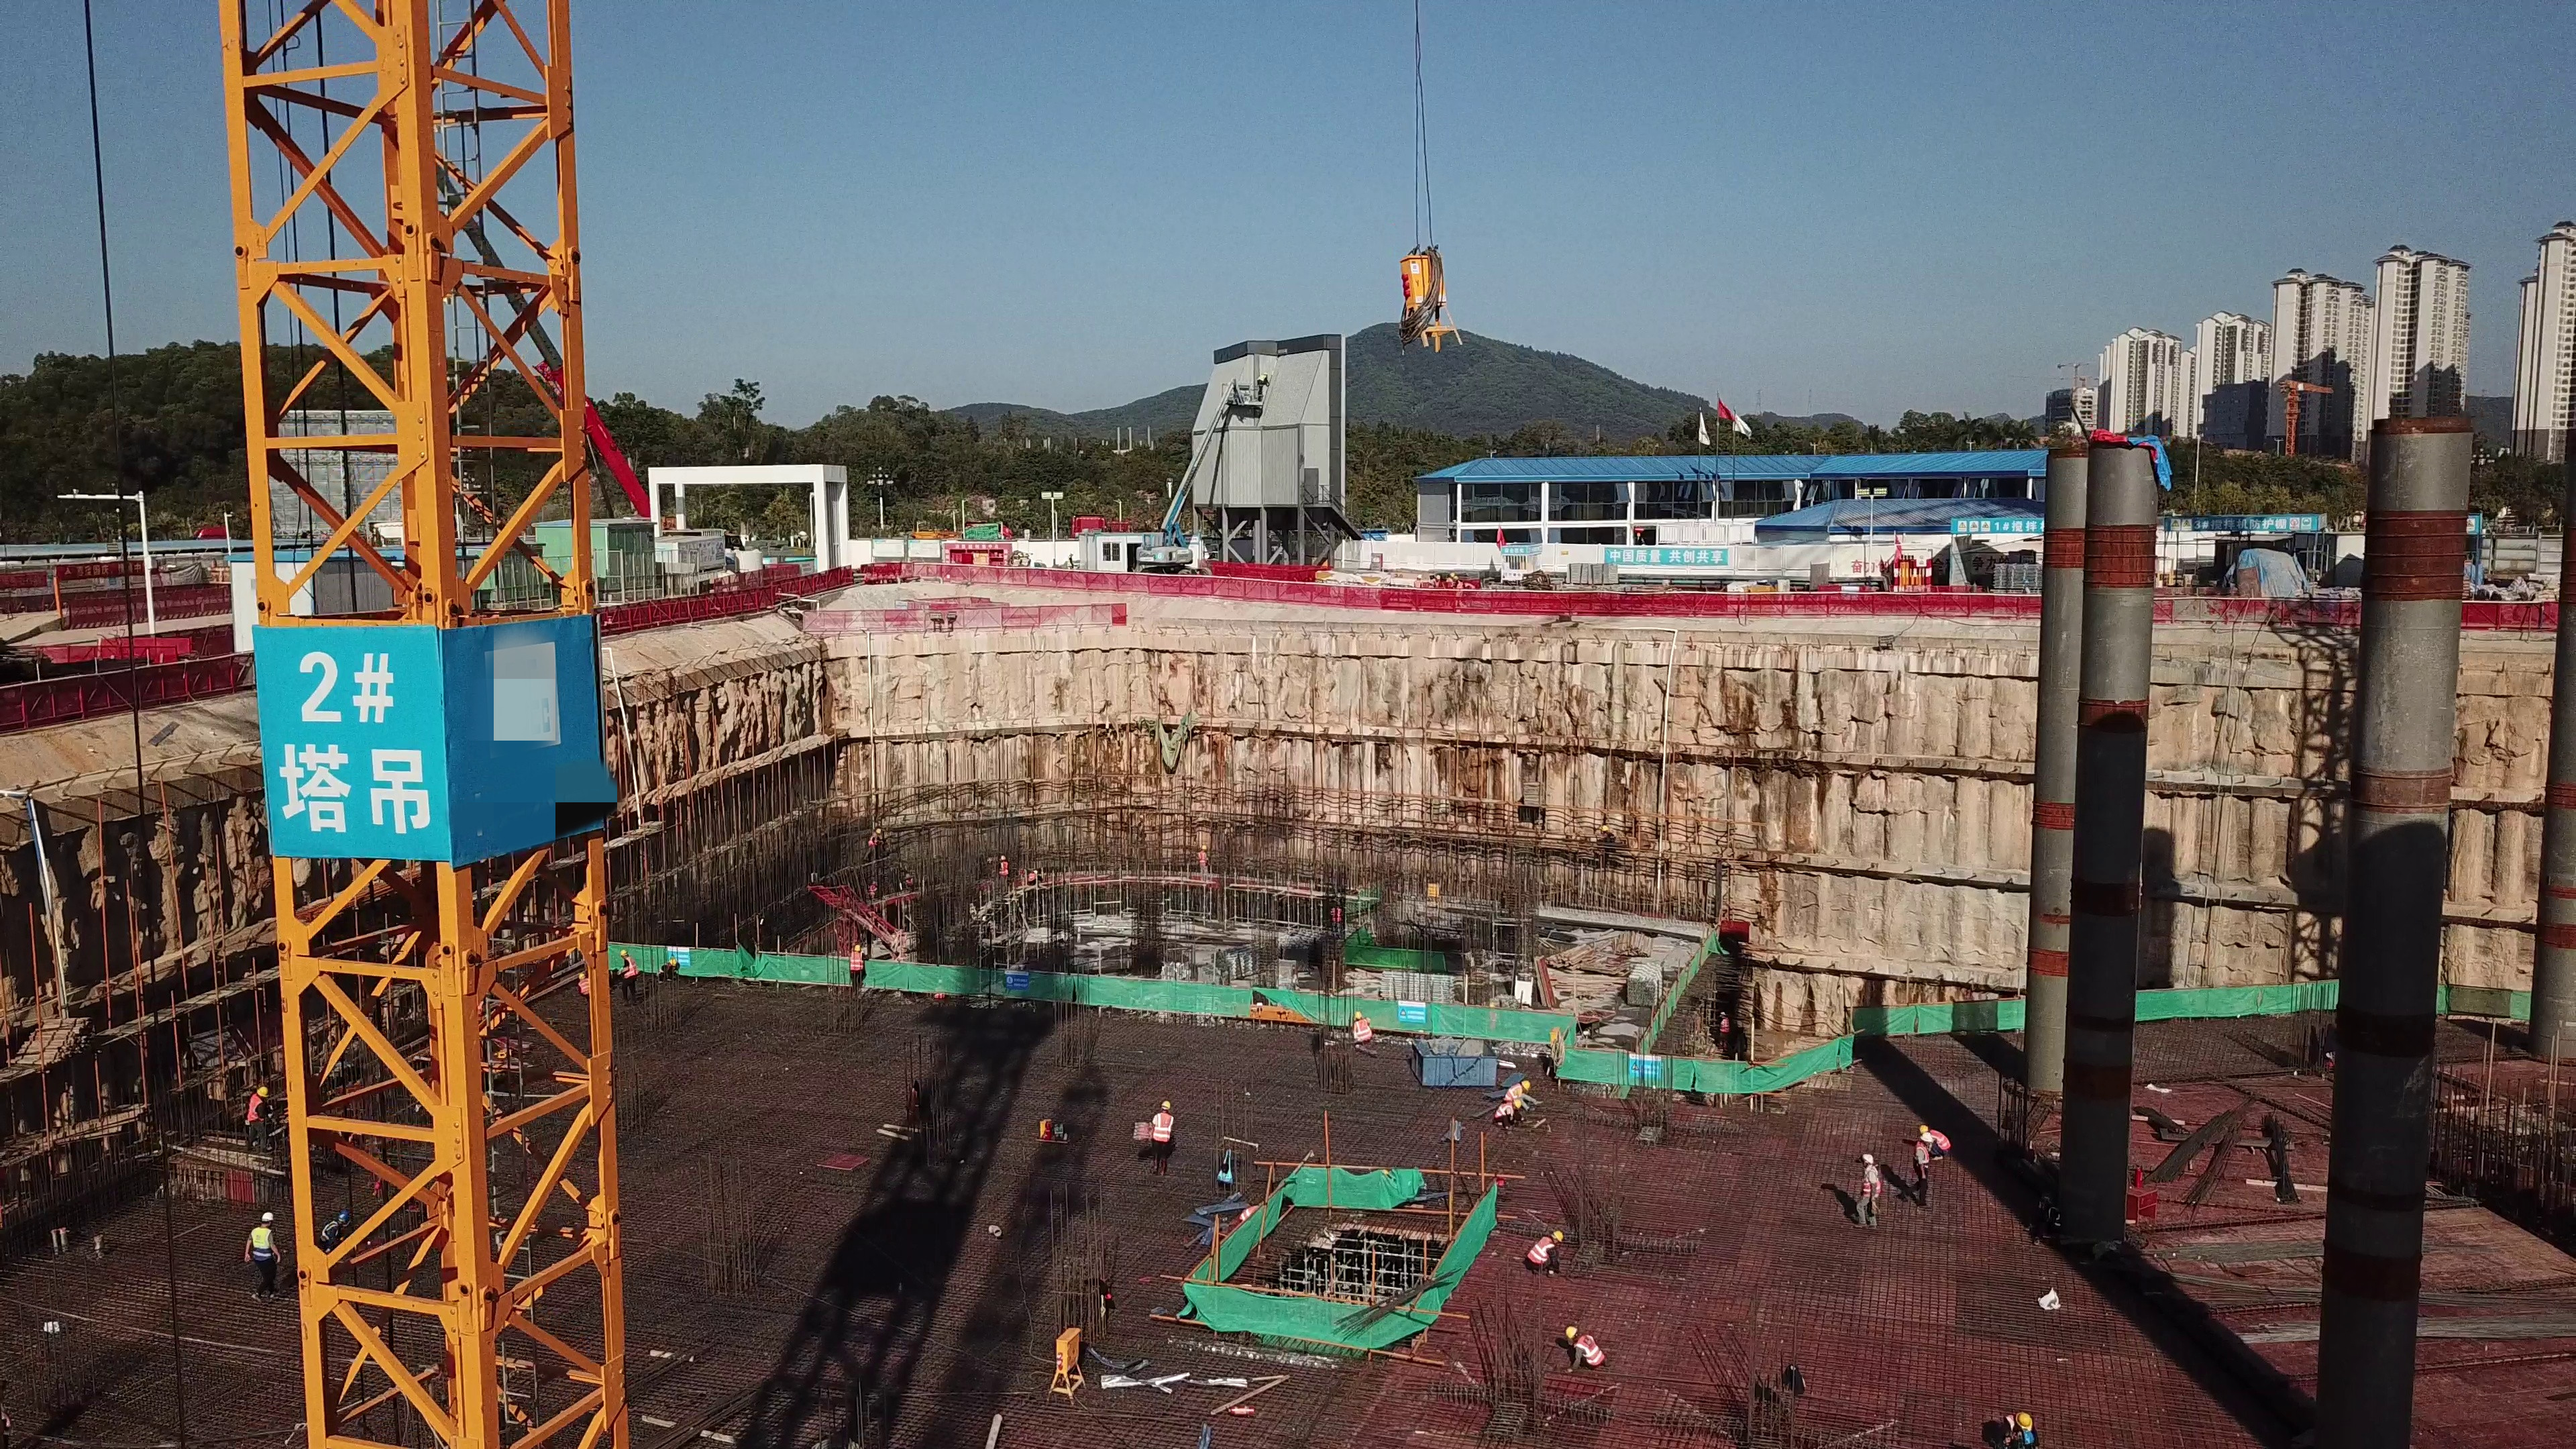brick: (1561, 557, 1615, 592)
ebox: (1381, 252, 1471, 350), (1046, 1324, 1090, 1391)
fence: (1371, 574, 1886, 633), (616, 581, 855, 632)
helmet: (2017, 1409, 2033, 1426), (1564, 1325, 1578, 1342), (258, 1209, 276, 1222), (254, 1083, 269, 1097), (1553, 1228, 1566, 1242), (1352, 1008, 1363, 1024), (1861, 1151, 1874, 1163), (333, 1212, 347, 1222), (1161, 1100, 1171, 1111), (1521, 1079, 1529, 1093), (1512, 1100, 1522, 1110), (1918, 1124, 1929, 1130), (1923, 1132, 1930, 1141), (853, 943, 861, 950), (873, 829, 882, 835), (1000, 855, 1006, 862), (1718, 1012, 1726, 1016)
hopper: (1413, 1036, 1500, 1092)
person: (241, 1207, 290, 1303), (308, 1208, 362, 1287), (1130, 1099, 1177, 1181), (228, 1071, 279, 1141), (1523, 1225, 1575, 1281), (1853, 1144, 1885, 1230), (1564, 1324, 1609, 1377), (1990, 1401, 2037, 1449), (1593, 825, 1624, 872), (1913, 1132, 1931, 1211), (843, 942, 867, 1002), (615, 942, 639, 1000), (1347, 1008, 1378, 1048), (1930, 1124, 1955, 1163), (860, 828, 886, 864), (1493, 1098, 1522, 1130), (1191, 842, 1213, 881), (572, 973, 598, 1004), (1714, 1008, 1733, 1049), (995, 853, 1012, 896), (858, 879, 883, 904), (1507, 1078, 1533, 1097), (1022, 867, 1044, 882)
scaffold: (1220, 932, 1292, 981), (1383, 973, 1454, 1010), (1633, 965, 1671, 1007)
slogan: (260, 630, 441, 847), (2166, 511, 2339, 540), (1600, 540, 1729, 572), (1953, 516, 2047, 538)
vest: (1578, 1337, 1605, 1368), (1523, 1238, 1552, 1267), (250, 1227, 275, 1258), (1154, 1112, 1171, 1145), (1862, 1170, 1882, 1196), (1915, 1146, 1933, 1174), (1931, 1130, 1951, 1154), (319, 1223, 339, 1244), (246, 1096, 262, 1122), (849, 951, 863, 971), (1505, 1081, 1521, 1099), (1353, 1018, 1370, 1037), (1498, 1103, 1512, 1118), (867, 835, 881, 847), (1721, 1020, 1731, 1034), (1000, 861, 1008, 875), (869, 886, 879, 896)
wood: (1560, 932, 1623, 1000)
